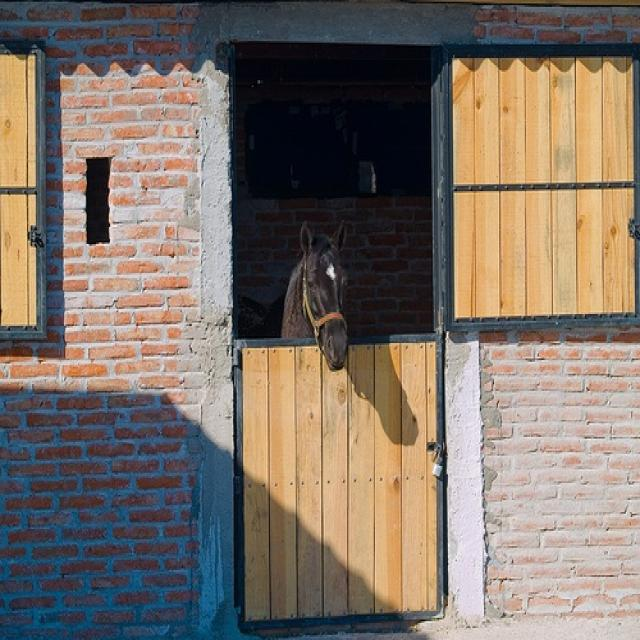horse: (232, 217, 350, 370)
